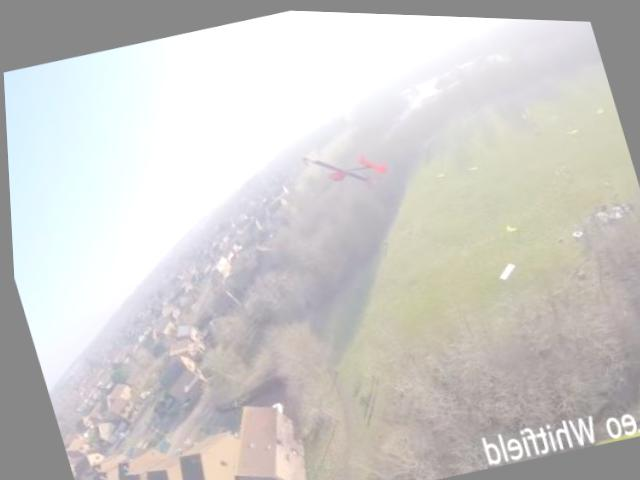uav: (287, 125, 402, 208)
